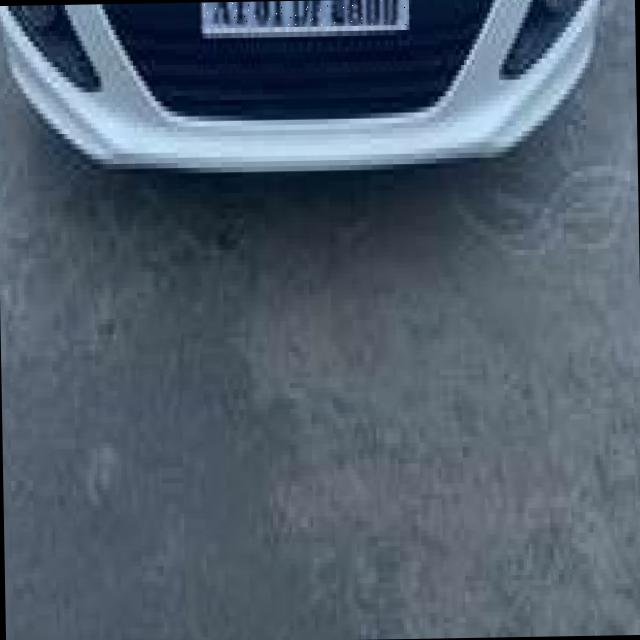Plate: (197, 1, 406, 29)
